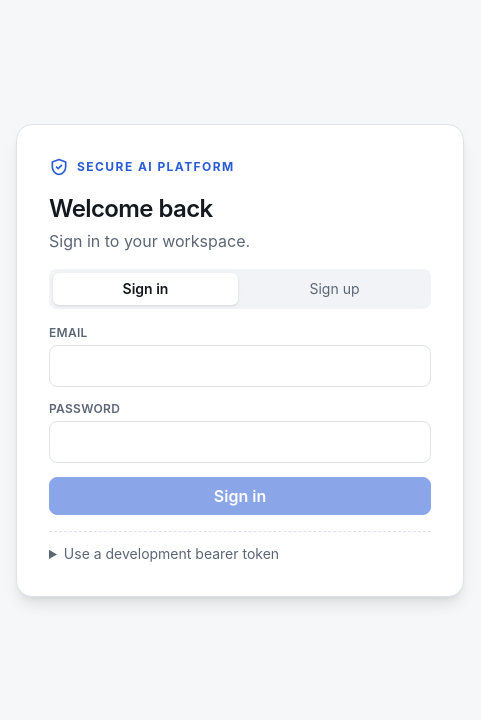
Scenario: App › rejects a bad token
This screenshot has width=481, height=720.
Step 1. Click the heading "Use a development bearer token" → (171, 553), box [64,544,279,562]
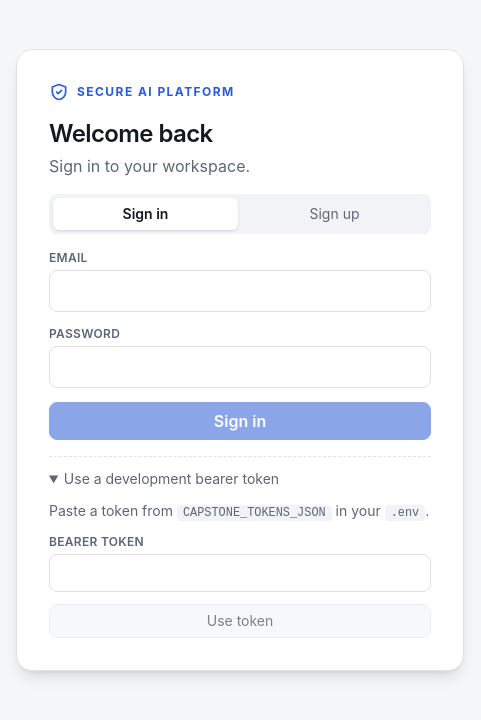
Step 2. Type "wrong" into the password field labelled "Bearer token" → (240, 573), box [49,554,431,592]
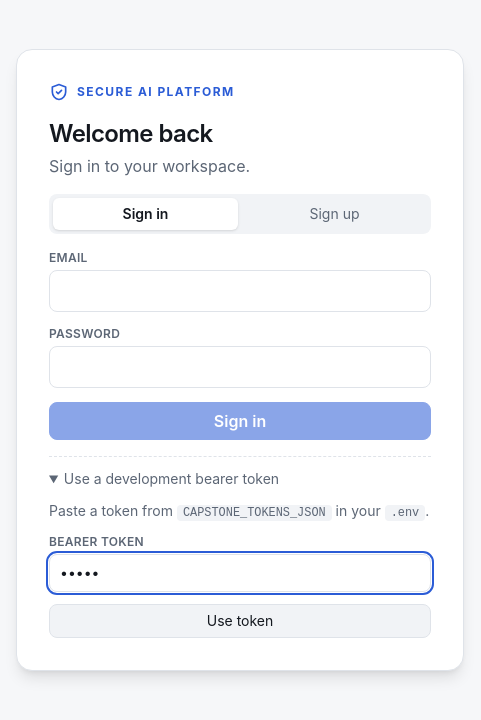
Step 3. Click the button "Use token" → (240, 621), box [49,604,431,638]
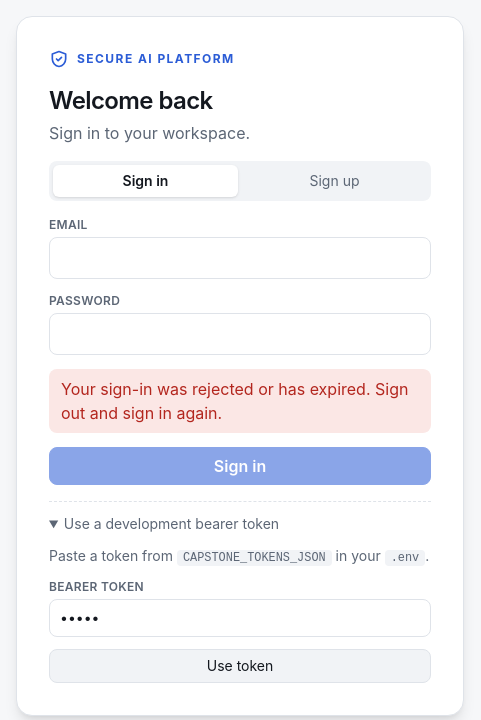
Now the message shows "rejected", box [61,379,408,423]
